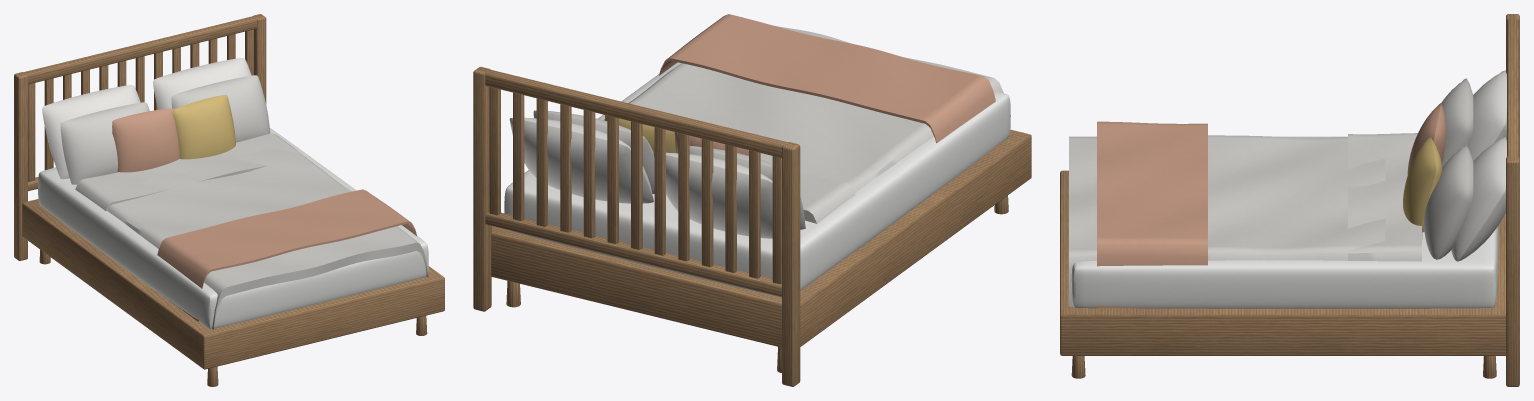
Rendered from cama-2p-roble-listones-v2.gltf.
The picture shows the model from 3 angles, left to right: view 1: azimuth 30°, elevation 25°; view 2: azimuth 150°, elevation 25°; view 3: azimuth 270°, elevation 25°; orthographic projection. The views are drawn at different scales.
Visible parts, largest first — view 1: cama-2p-roble-listones__f_lino_perla, cama-2p-roble-listones__w_roble_x, cama-2p-roble-listones__f_colchon, cama-2p-roble-listones__f_lino_terra, cama-2p-roble-listones__w_roble, cama-2p-roble-listones__f_lino_blanco, cama-2p-roble-listones__f_lino_mostaza; view 2: cama-2p-roble-listones__w_roble_x, cama-2p-roble-listones__w_roble, cama-2p-roble-listones__f_lino_perla, cama-2p-roble-listones__f_colchon, cama-2p-roble-listones__f_lino_terra, cama-2p-roble-listones__f_lino_blanco, cama-2p-roble-listones__f_lino_mostaza; view 3: cama-2p-roble-listones__f_lino_perla, cama-2p-roble-listones__w_roble_x, cama-2p-roble-listones__f_colchon, cama-2p-roble-listones__f_lino_terra, cama-2p-roble-listones__f_lino_blanco, cama-2p-roble-listones__w_roble, cama-2p-roble-listones__f_lino_mostaza.
Part boxes in pixels (x1=…): cama-2p-roble-listones__f_lino_perla: x1=60, y1=75, x2=428, y2=329; cama-2p-roble-listones__w_roble_x: x1=16, y1=14, x2=444, y2=369; cama-2p-roble-listones__f_colchon: x1=38, y1=128, x2=428, y2=328; cama-2p-roble-listones__f_lino_terra: x1=112, y1=108, x2=416, y2=321; cama-2p-roble-listones__w_roble: x1=14, y1=14, x2=427, y2=386; cama-2p-roble-listones__f_lino_blanco: x1=42, y1=58, x2=251, y2=179; cama-2p-roble-listones__f_lino_mostaza: x1=172, y1=95, x2=235, y2=159; cama-2p-roble-listones__w_roble_x: x1=476, y1=67, x2=1031, y2=347; cama-2p-roble-listones__w_roble: x1=473, y1=67, x2=1008, y2=386; cama-2p-roble-listones__f_lino_perla: x1=533, y1=26, x2=1003, y2=229; cama-2p-roble-listones__f_colchon: x1=504, y1=62, x2=1010, y2=297; cama-2p-roble-listones__f_lino_terra: x1=659, y1=14, x2=1000, y2=180; cama-2p-roble-listones__f_lino_blanco: x1=509, y1=117, x2=772, y2=238; cama-2p-roble-listones__f_lino_mostaza: x1=605, y1=115, x2=675, y2=153; cama-2p-roble-listones__f_lino_perla: x1=1068, y1=78, x2=1473, y2=306; cama-2p-roble-listones__w_roble_x: x1=1060, y1=14, x2=1518, y2=355; cama-2p-roble-listones__f_colchon: x1=1071, y1=136, x2=1498, y2=308; cama-2p-roble-listones__f_lino_terra: x1=1097, y1=103, x2=1446, y2=308; cama-2p-roble-listones__f_lino_blanco: x1=1451, y1=70, x2=1506, y2=261; cama-2p-roble-listones__w_roble: x1=1071, y1=14, x2=1519, y2=386; cama-2p-roble-listones__f_lino_mostaza: x1=1403, y1=136, x2=1442, y2=232.
Size of the model in its own units: 1.52 by 1.08 by 1.99.
7 materials, 7 textured.
